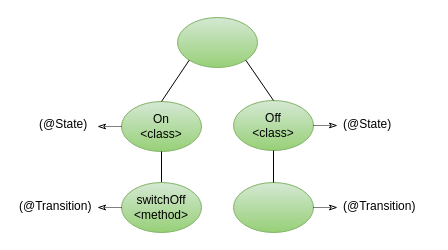
Some shapes in this 448 by 250 pixel diagram are drawn without their labels. The centre of each missing label's shape, as x and y in pixels:
"Light <class>" belongs at point 217,42.
"switchOn <method>" belongs at point 273,207.
